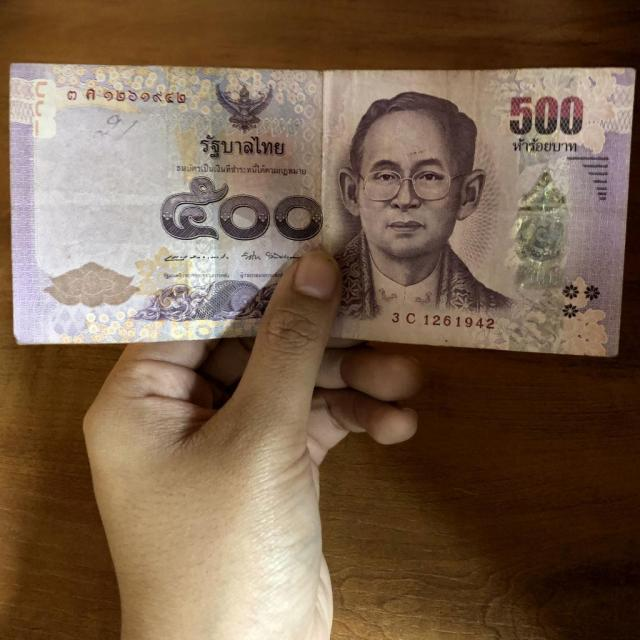THAI500: (9, 63, 635, 358)
